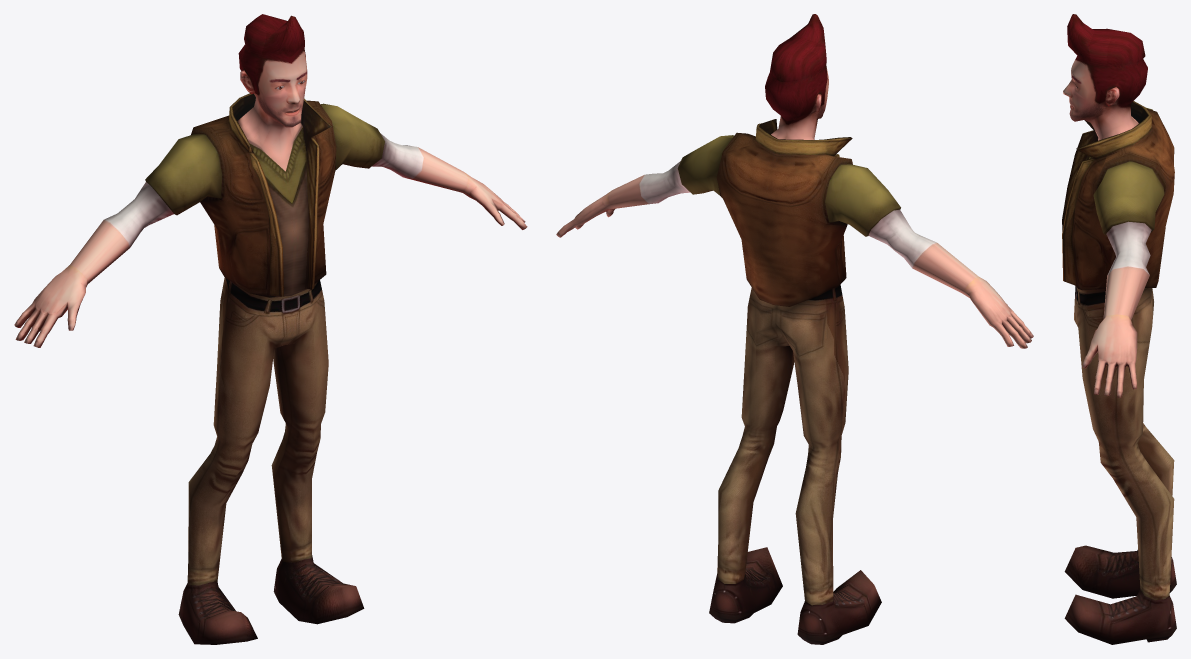
Rendered from maleadvnew.fbx.
3 views of the same model, side by side, from view 1: azimuth 30°, elevation 25°; view 2: azimuth 150°, elevation 25°; view 3: azimuth 270°, elevation 25° (orthographic). The views are drawn at different scales.
Parts seen in each view (by area): view 1: corpo_Circle.001; view 2: corpo_Circle.001; view 3: corpo_Circle.001.
Part boxes in pixels (left/top/right/bottom): corpo_Circle.001: left=14, top=14, right=527, bottom=644; corpo_Circle.001: left=556, top=14, right=1033, bottom=644; corpo_Circle.001: left=1062, top=14, right=1176, bottom=644.
Size of the model in its own units: 165 by 197 by 34.24.
1 material, 1 textured.
